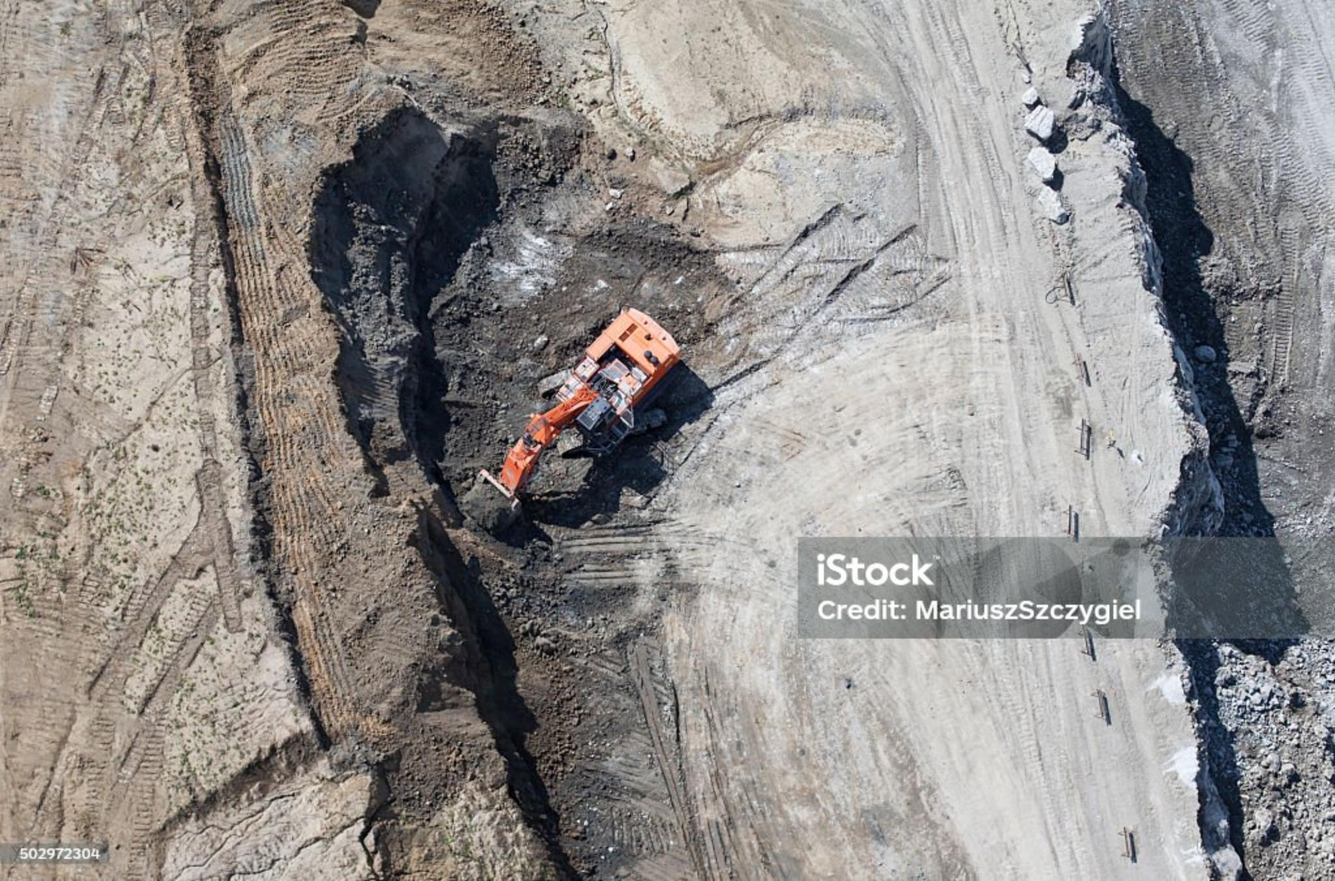benches: (605, 0, 1189, 876)
excavator: (465, 311, 700, 541)
